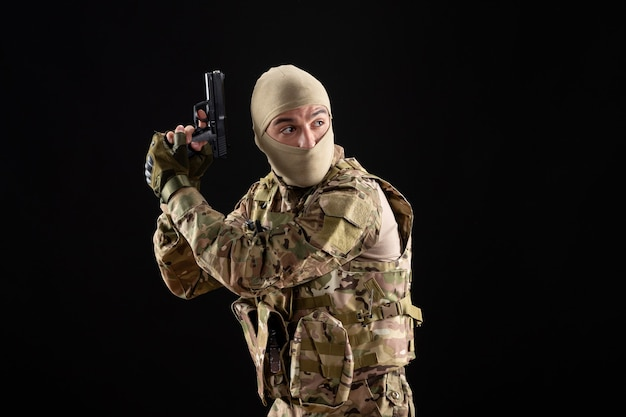gun: (173, 70, 228, 160)
